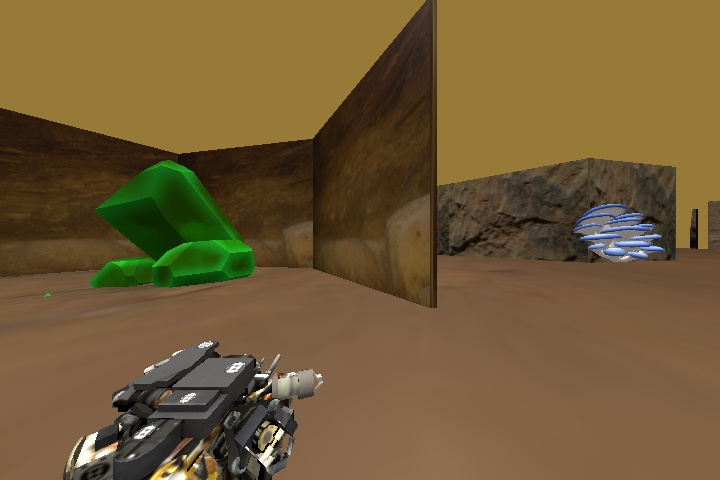gem: (86, 158, 255, 293)
mushroom: (574, 203, 666, 262)
